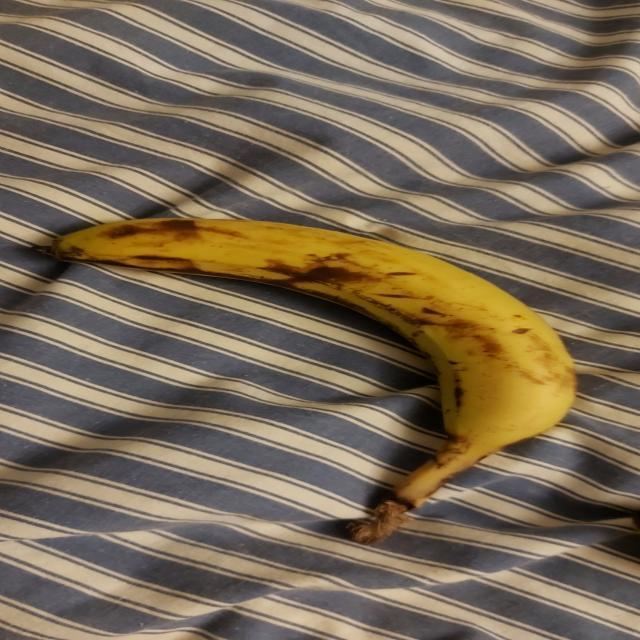banana-peel: (28, 214, 578, 545)
